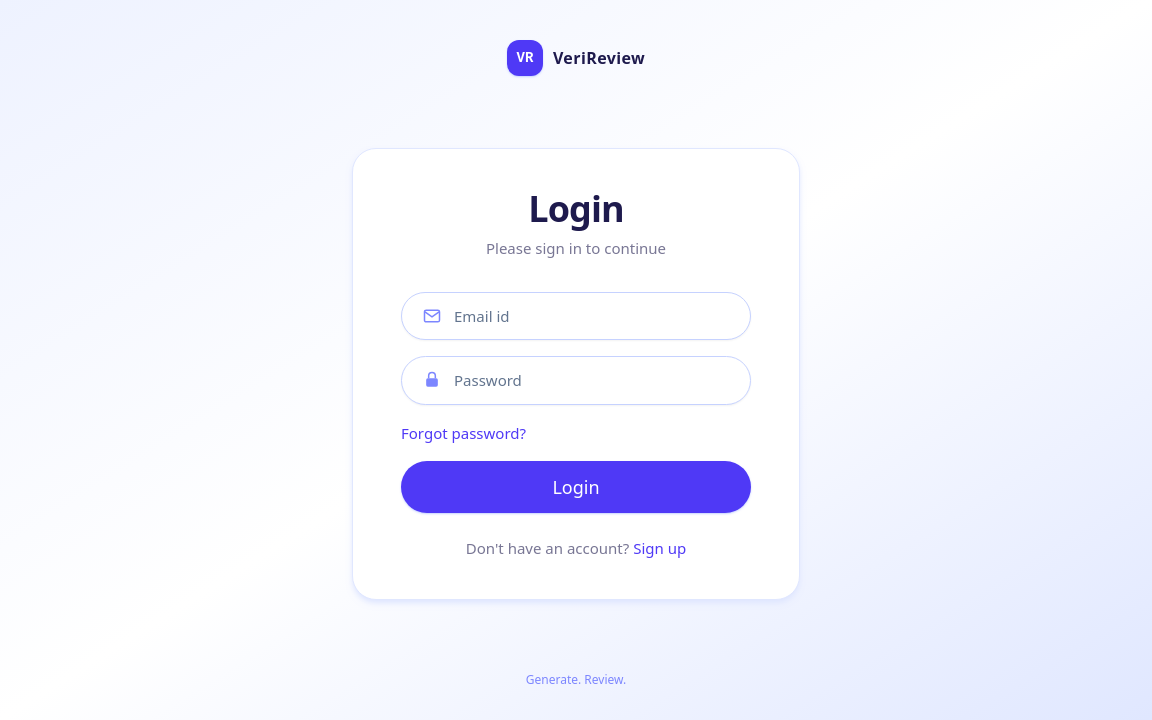
Scenario: LoginPage auth error UX › maps 429 to the rate-limit message
Type "dev@example.com" into the field labelled "Email". click: point(592, 316)
box: [454,304,730,327]
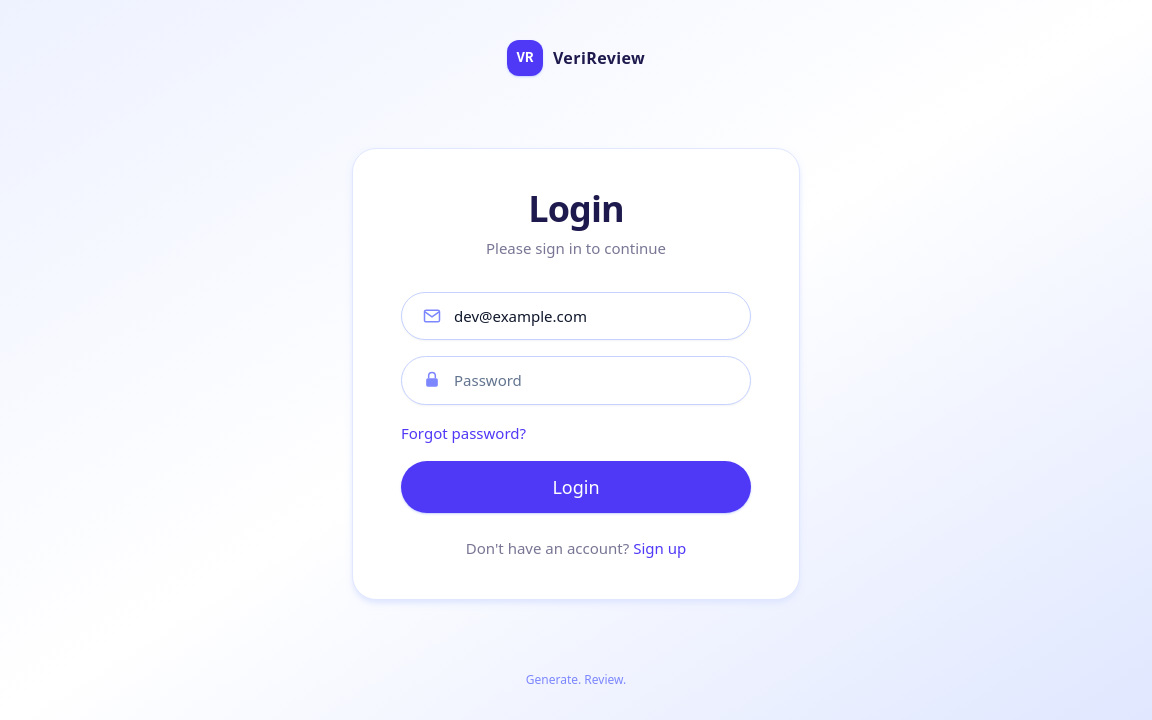
Type "secret-1" into the password field labelled "Password". click: point(592, 380)
box: [454,369,730,392]
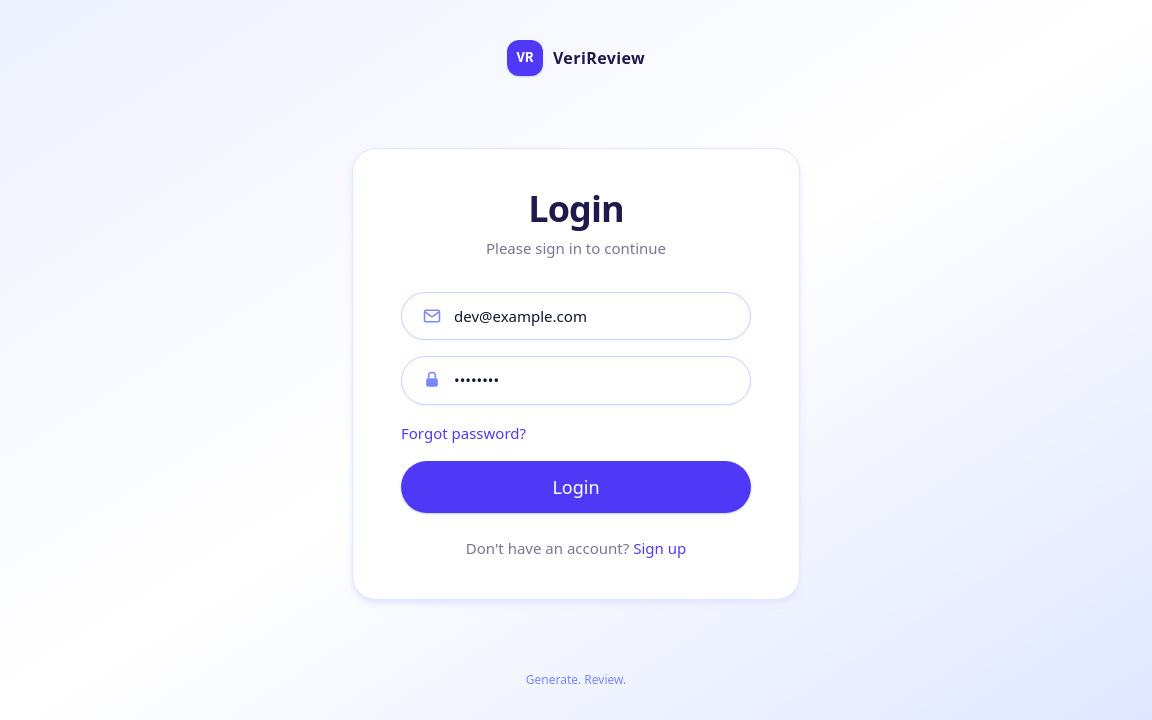
Click the button "Login". click: point(576, 486)
box: [401,460,751,512]
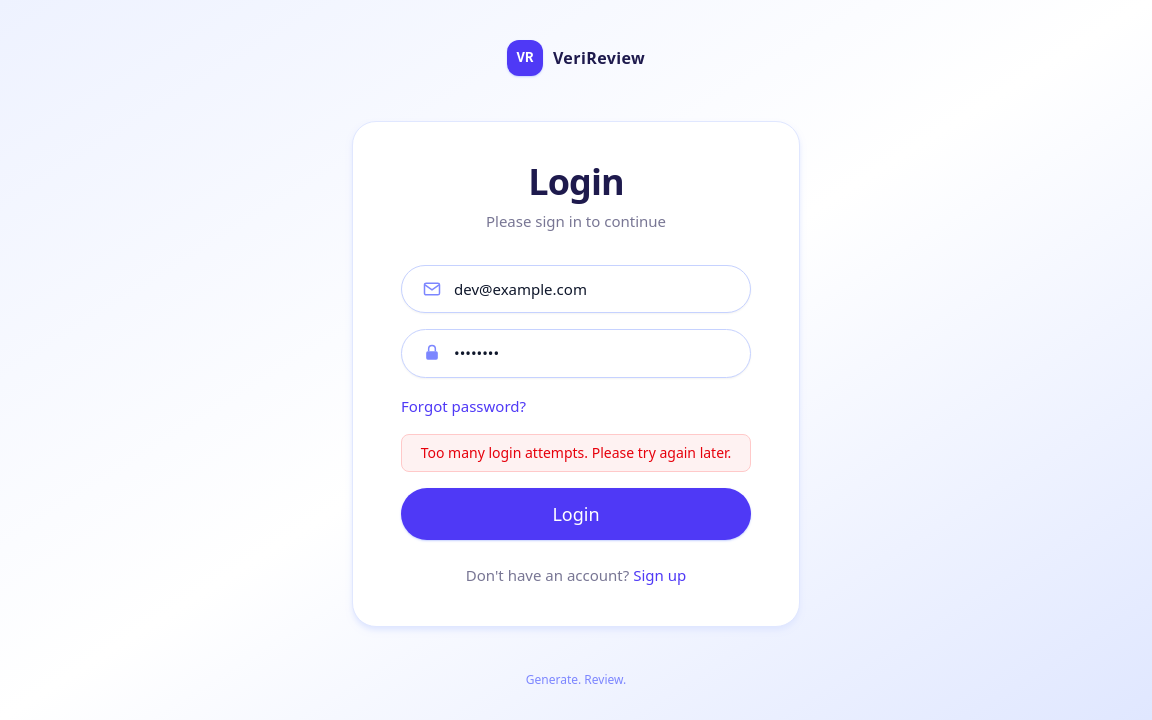
Expected: the text "Too many login attempts. Please try again later." is shown, [401,434,751,472]
